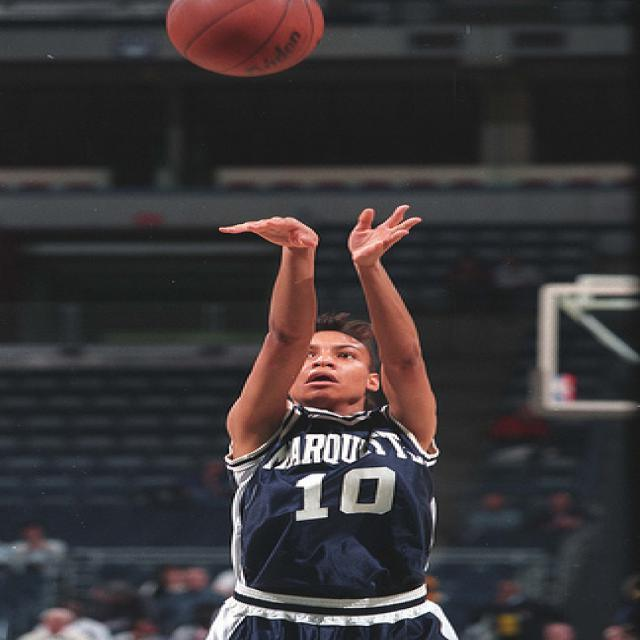basketball: (166, 0, 327, 79)
